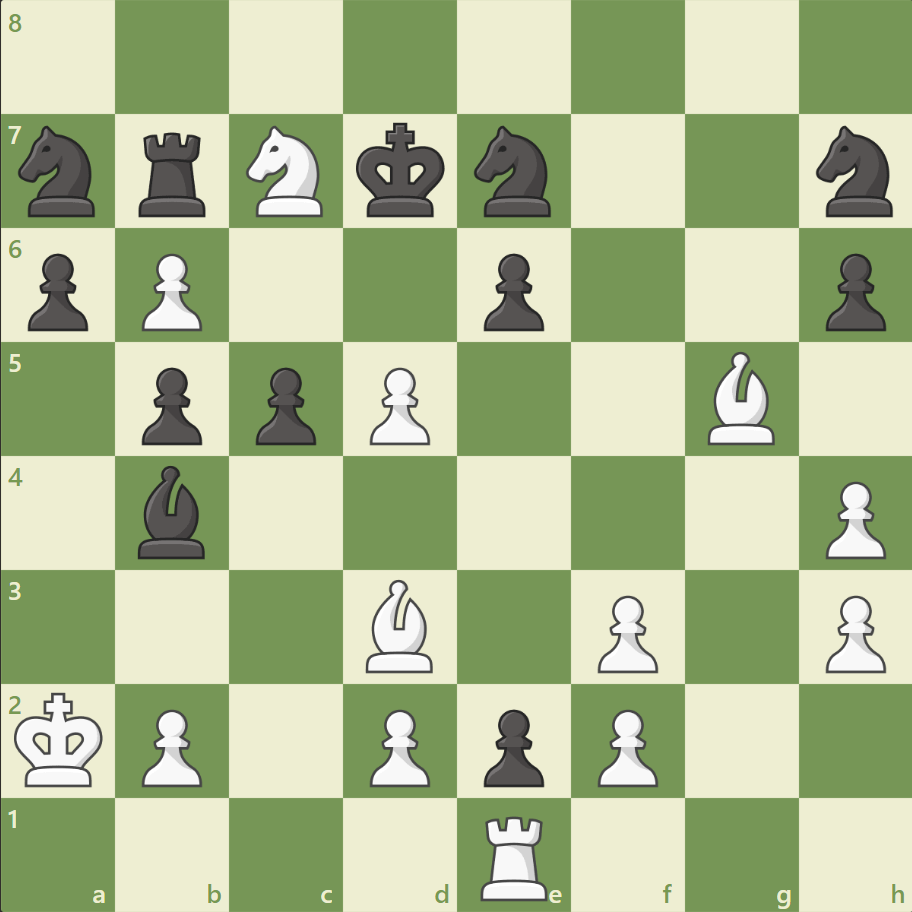B: (698, 347, 782, 449), (358, 574, 442, 676)
K: (11, 685, 111, 793)
N: (238, 121, 335, 223)
P: (133, 246, 208, 337), (133, 700, 208, 791), (361, 359, 435, 450), (815, 473, 889, 564), (588, 586, 662, 677), (815, 586, 889, 677), (361, 700, 435, 791), (588, 700, 662, 791)
R: (473, 806, 556, 904)
b: (131, 460, 215, 563)
k: (351, 117, 451, 225)
n: (11, 121, 108, 223), (465, 121, 562, 223), (806, 121, 903, 223)
p: (20, 246, 95, 337), (474, 246, 549, 337), (133, 359, 208, 450), (247, 359, 322, 450), (474, 700, 549, 791), (815, 246, 889, 337)
r: (133, 125, 215, 222)
